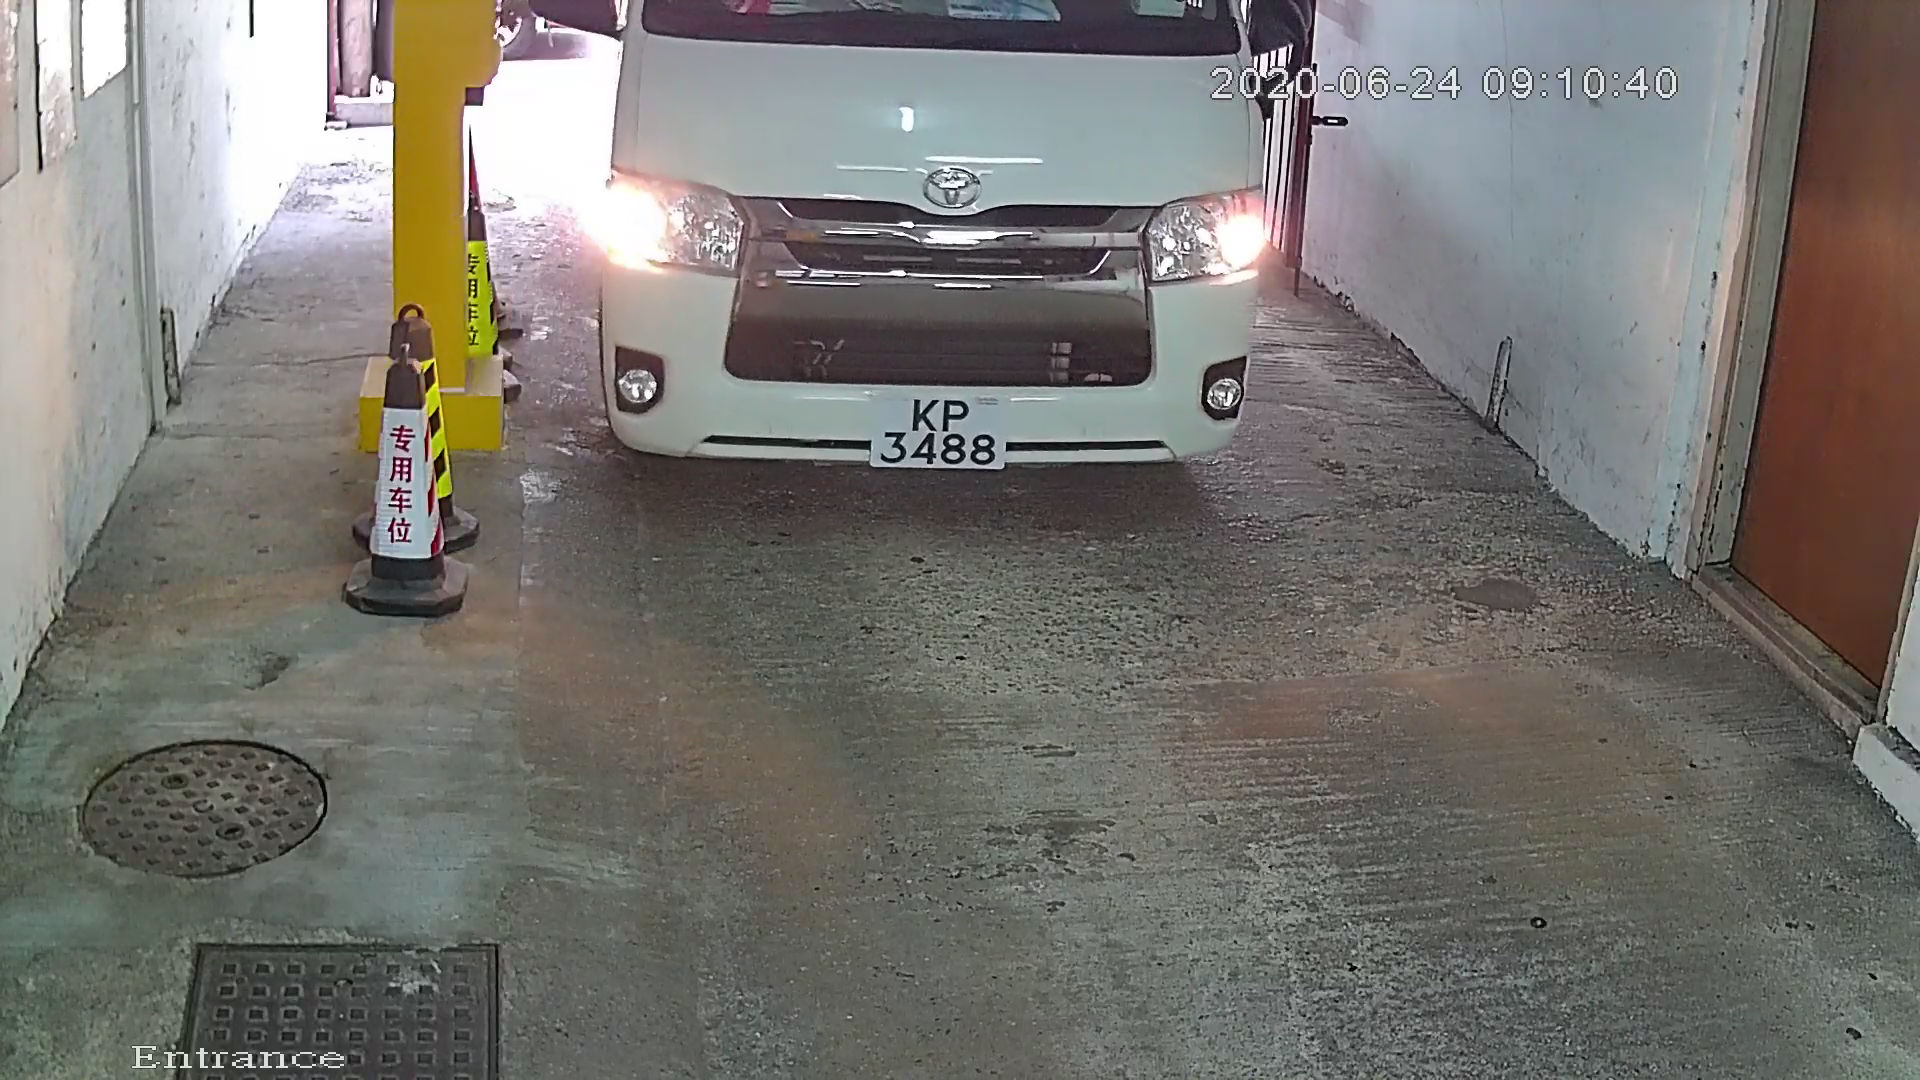privatecar: (554, 1, 1338, 530)
